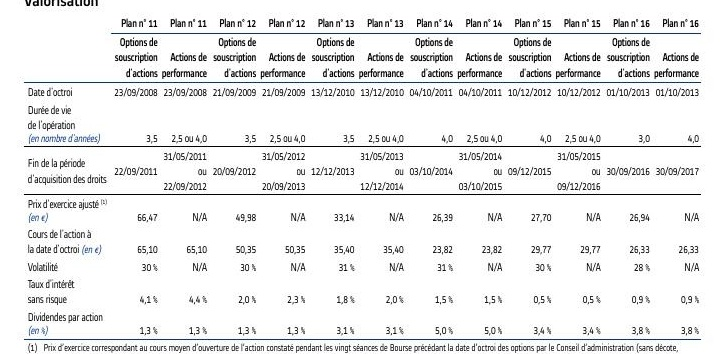table: (0, 0, 720, 354)
